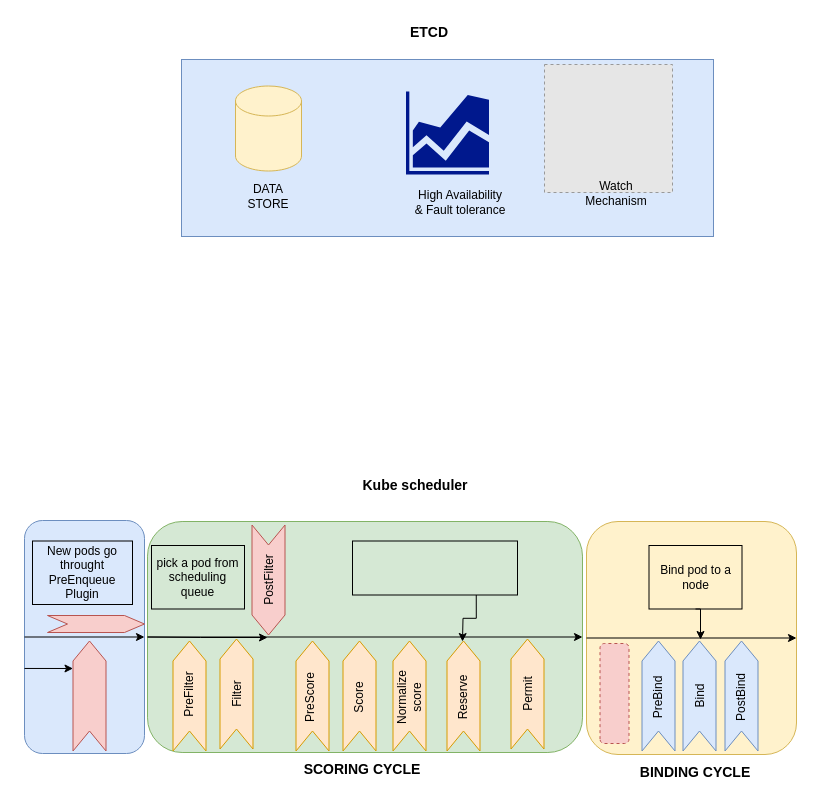
Image size: 822x804. Some labels were removed from this diagram. Grey dashed boxes stand in for pictures. Each missing label, with the centre of its shape:
"PreEnqueue" goes at pixel 89 695.
"Reserve is a node for pod for the cache" goes at pixel 435 567.
"sort" goes at pixel 95 623.
"WaitOnPermit" goes at pixel 614 693.
